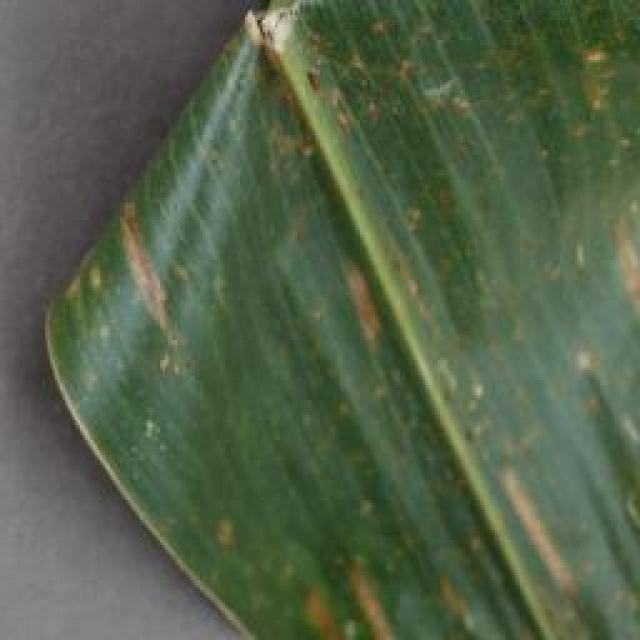Corn___Cercospora_leaf_spot Gray_leaf_spot: (245, 0, 638, 640)
